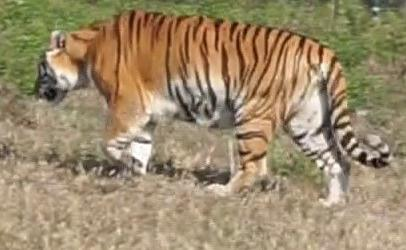tiger: (38, 10, 389, 205)
